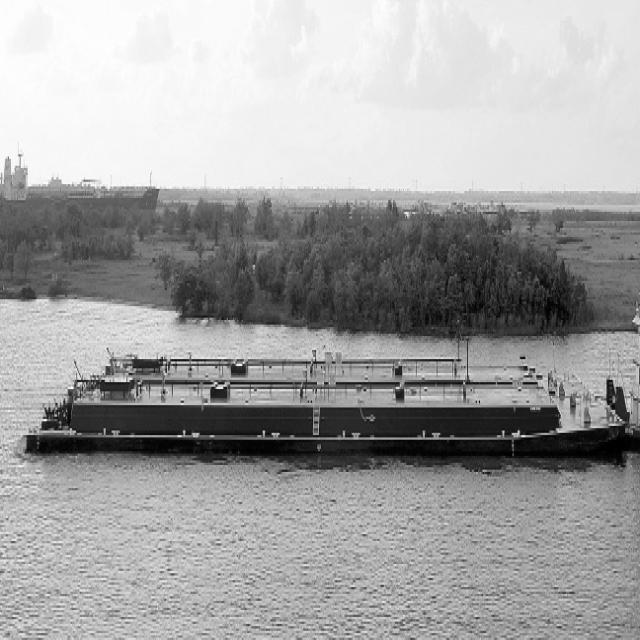tugboat: (598, 279, 640, 468)
